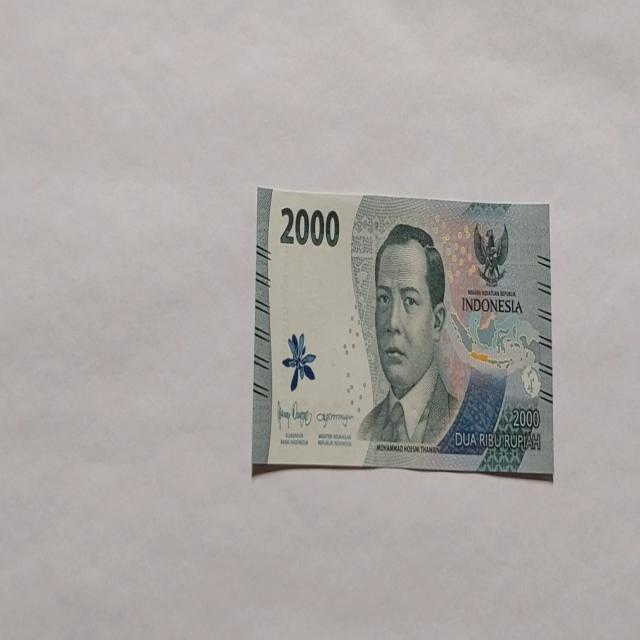dua ribu rupiah: (251, 184, 553, 476), (355, 221, 463, 457)
